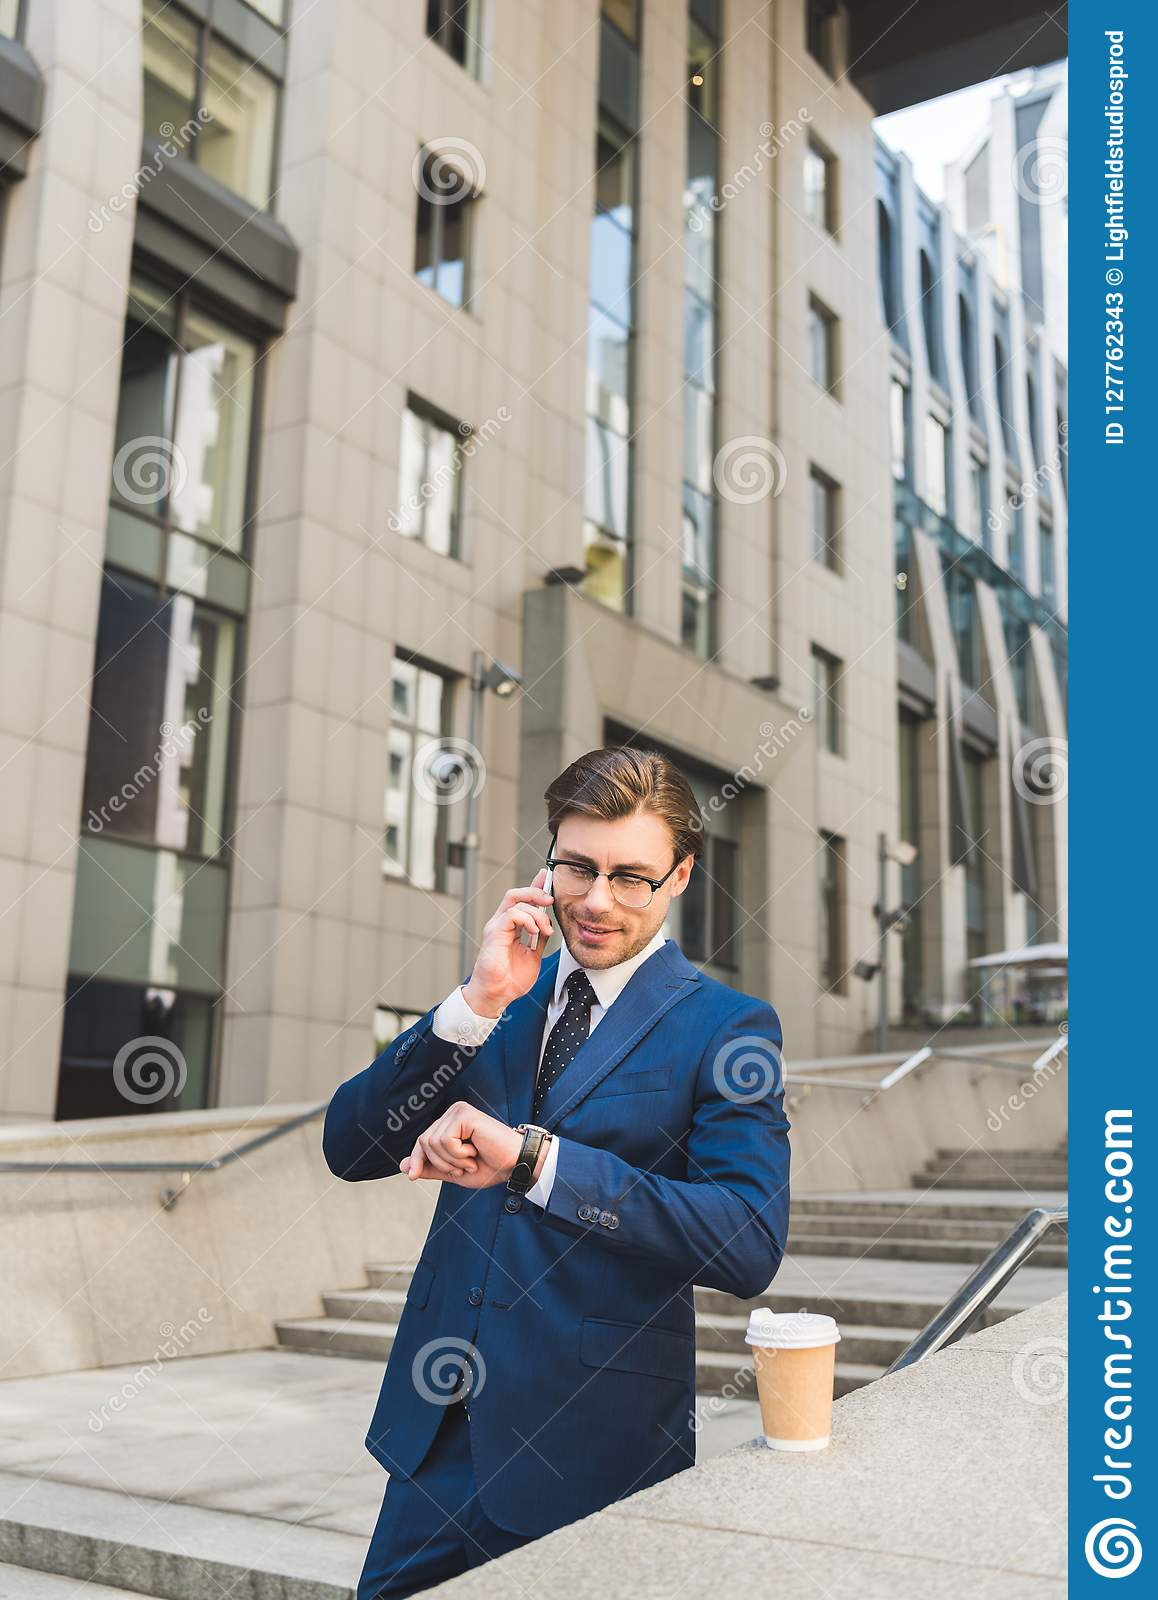phone: (531, 848, 553, 952)
talk: (475, 841, 668, 1001)
